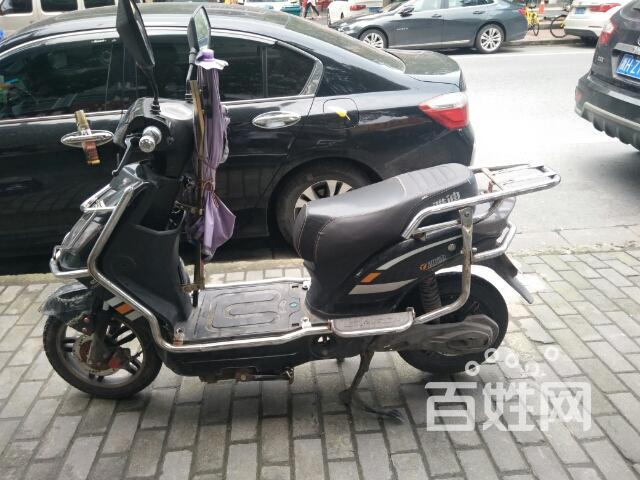电动车: (35, 1, 568, 411)
